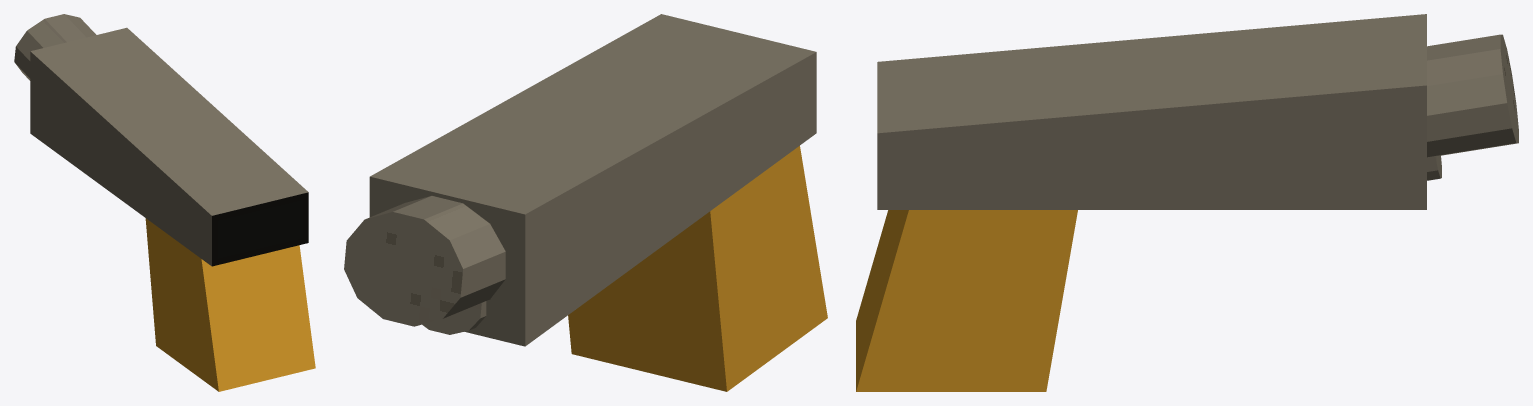
Rendered from arma.gltf.
3 renders of one model, left to right at view 1: azimuth 30°, elevation 25°; view 2: azimuth 150°, elevation 25°; view 3: azimuth 270°, elevation 25°, orthographic. The views are drawn at different scales.
Parts seen in each view (by area): view 1: mesh; view 2: mesh; view 3: mesh.
Boxes of the visible parts, x1,y1,x2,y2 form: mesh: [14, 14, 315, 391]; mesh: [344, 14, 827, 391]; mesh: [856, 14, 1518, 391].
Bounding box in the file's own units: 1 × 2.05 × 3.92.
1 material, 1 textured.
